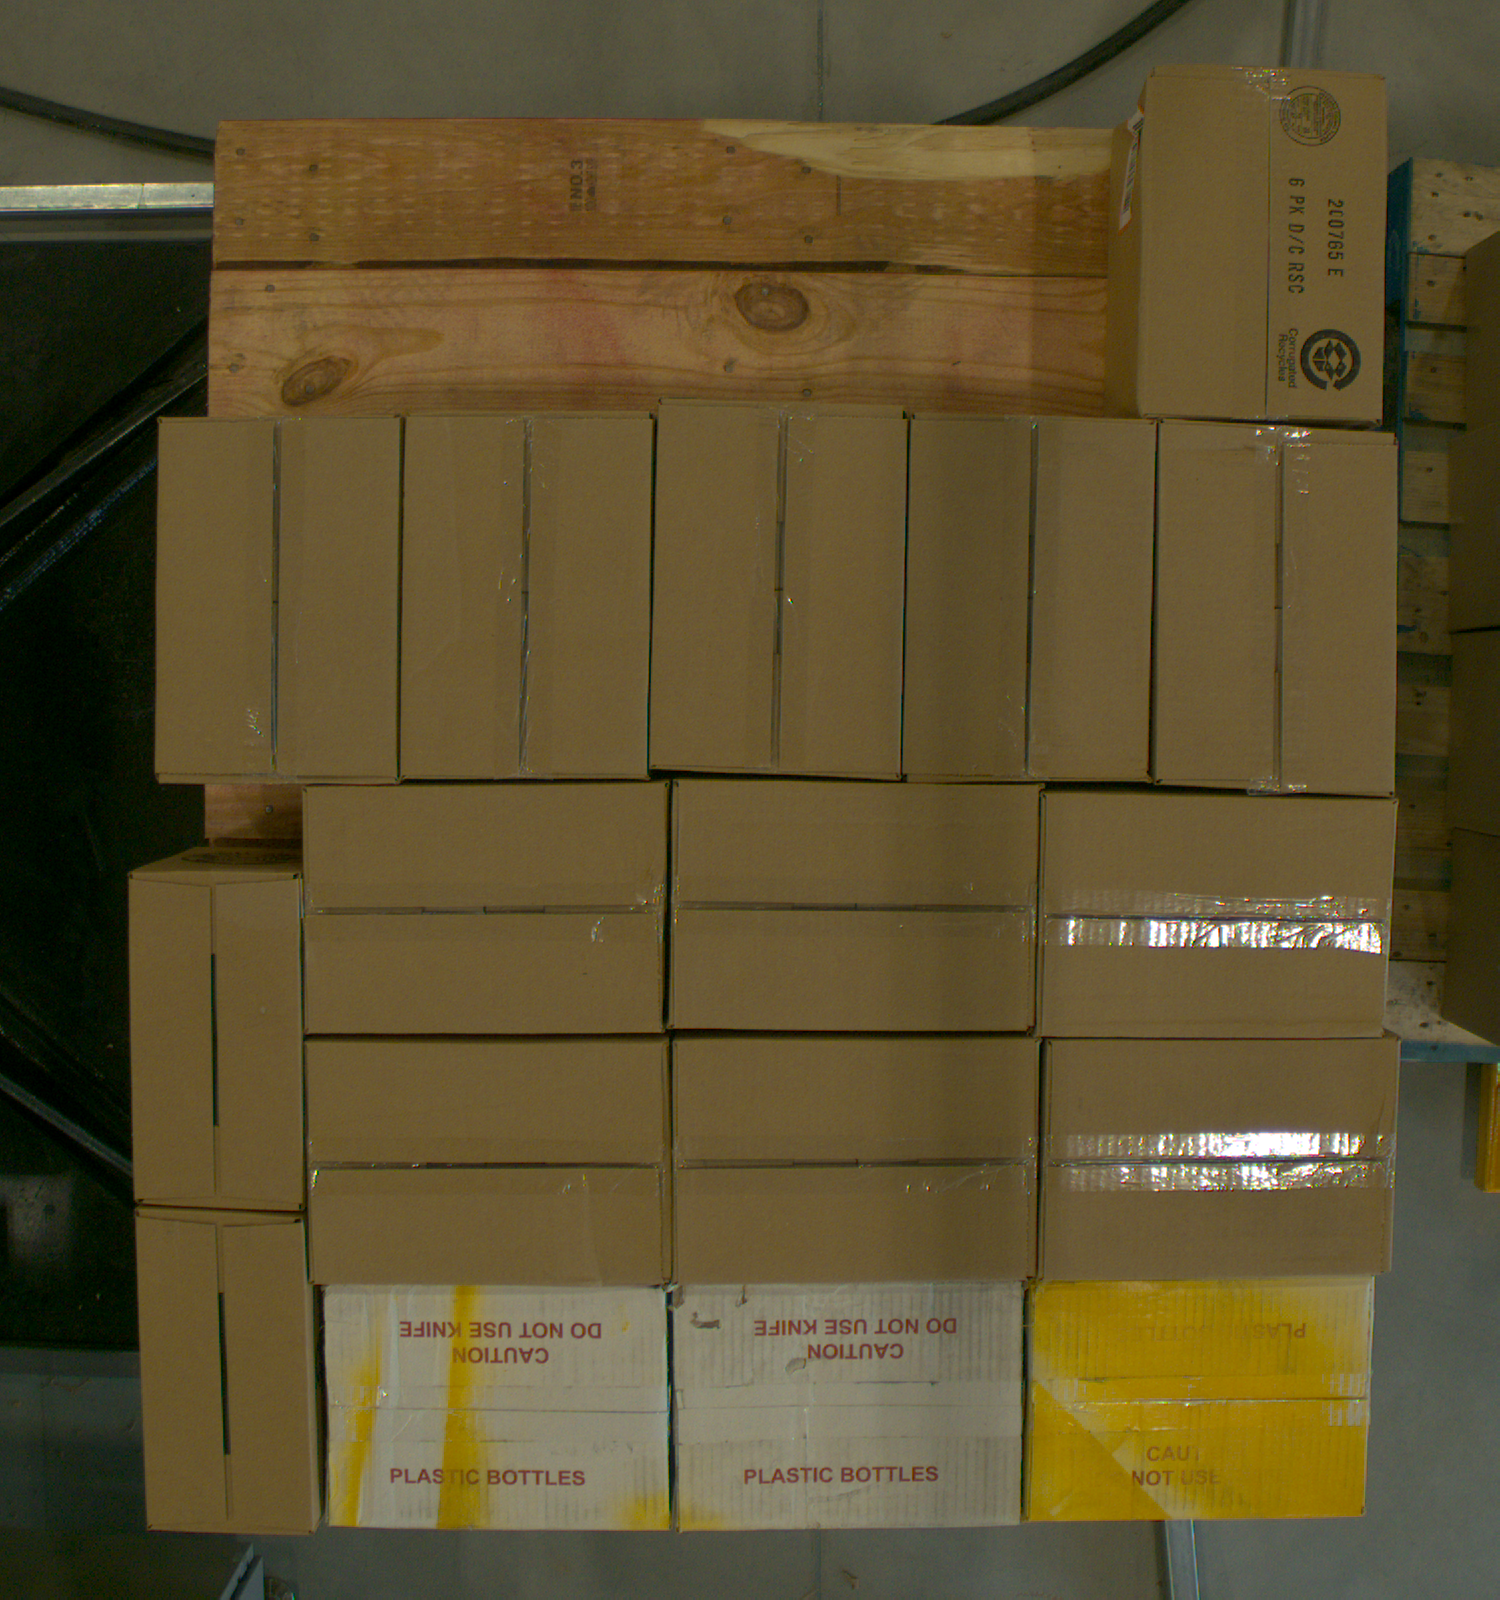box top: (656, 405, 905, 773), (672, 782, 1038, 1032), (908, 414, 1153, 785), (403, 412, 651, 778), (362, 727, 608, 1091), (158, 417, 399, 782), (367, 983, 610, 1343), (1038, 794, 1397, 1038), (675, 1040, 1038, 1281), (1040, 1040, 1400, 1281), (726, 1232, 973, 1582), (1159, 427, 1396, 791), (1025, 1277, 1375, 1522), (1145, 69, 1387, 421), (376, 1236, 616, 1579), (130, 875, 305, 1212), (135, 1210, 314, 1537)
